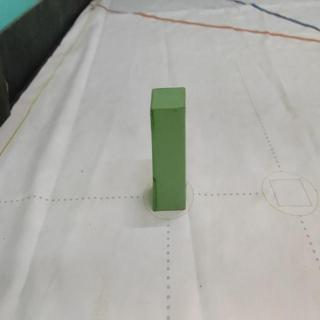greenbox: (149, 85, 188, 213)
